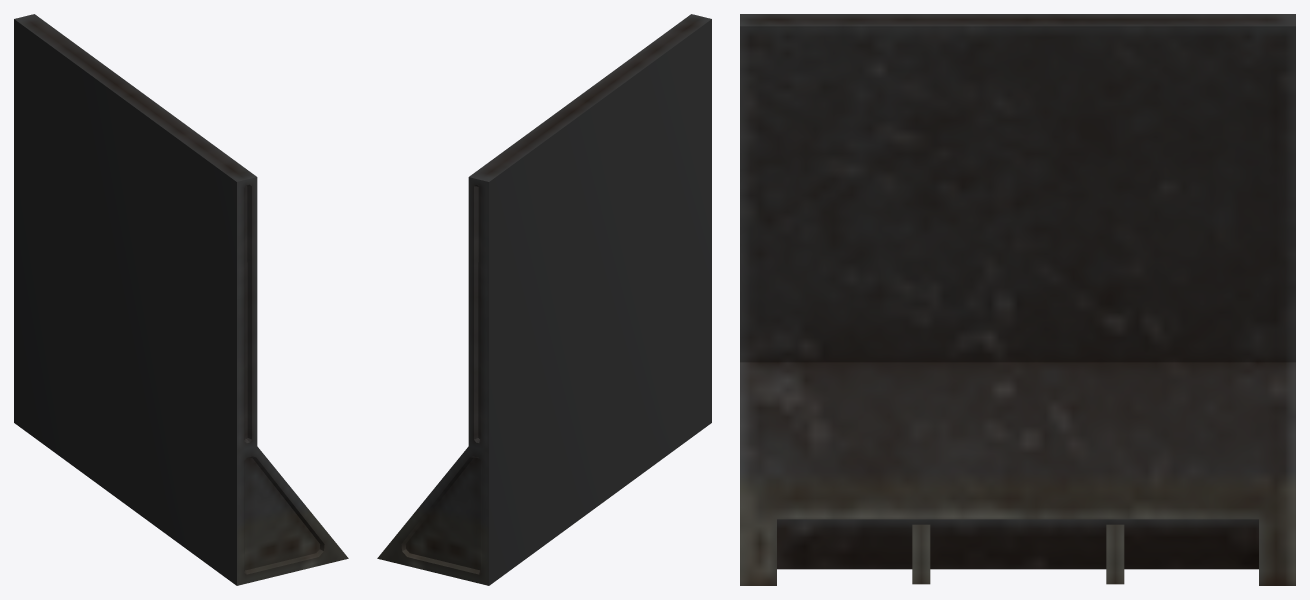
File: Wall_10.FBX
3 renders of one model, left to right at view 1: azimuth 30°, elevation 25°; view 2: azimuth 150°, elevation 25°; view 3: azimuth 270°, elevation 25°, orthographic. The views are drawn at different scales.
Visible parts, largest first — view 1: Wall_10; view 2: Wall_10; view 3: Wall_10.
Part boxes in pixels (x1,y1,x2,y2): Wall_10: [14, 14, 348, 585]; Wall_10: [377, 14, 711, 585]; Wall_10: [740, 14, 1295, 585].
Size of the model in its own units: 87.08 by 300 by 300.
